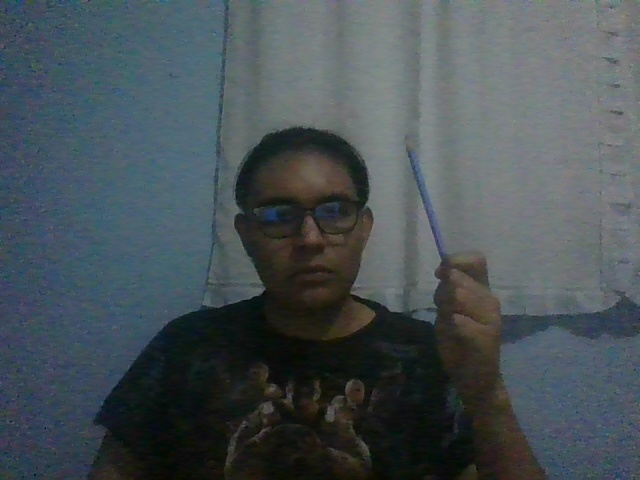lapiz: (403, 133, 448, 260)
